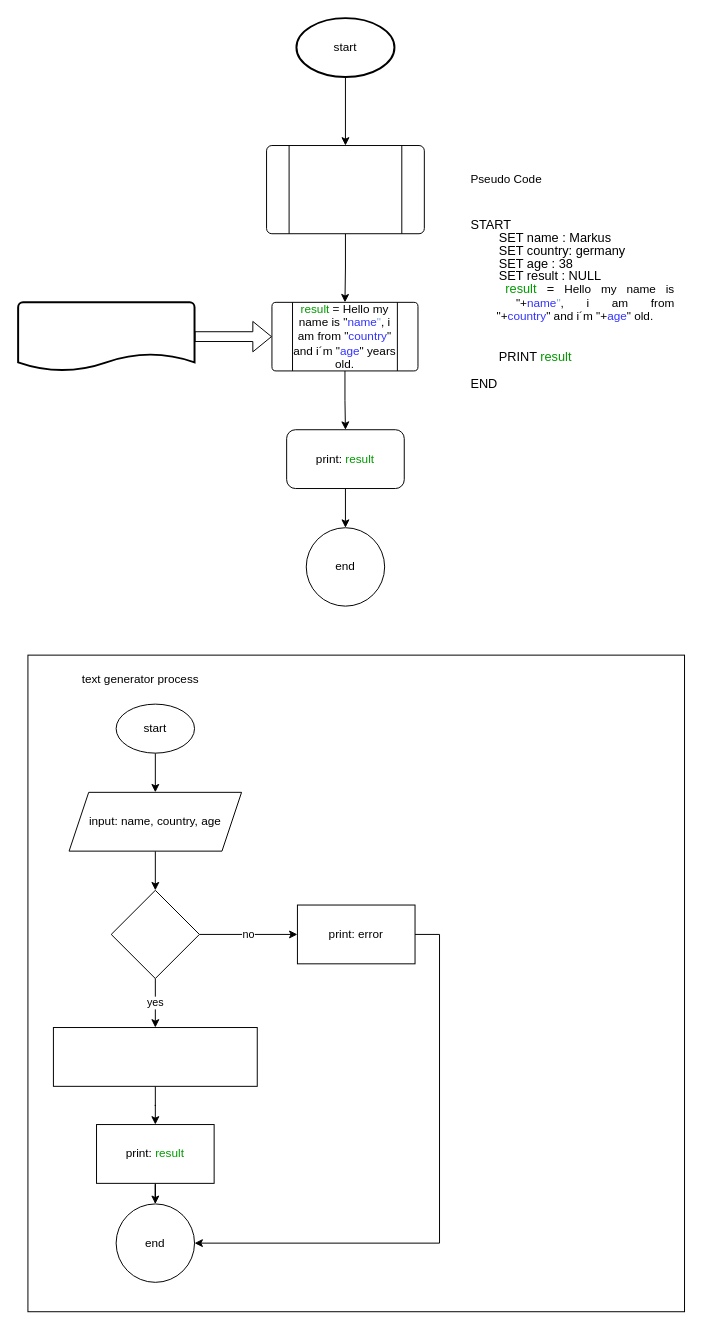
Image size: 702x1329. Some labels were removed from this diagram. The centre of each missing label's shape, as x and y in pixels:
"all input exists" belongs at (154,934).
"define variable: name :Markus country :germany age :38 result : NULL" belongs at (345,189).
"process: means when your app shall do something itself" belongs at (106,336).
"result = Hello my name is + name , i am from + country and i´m + age old." belongs at (154,1056).
